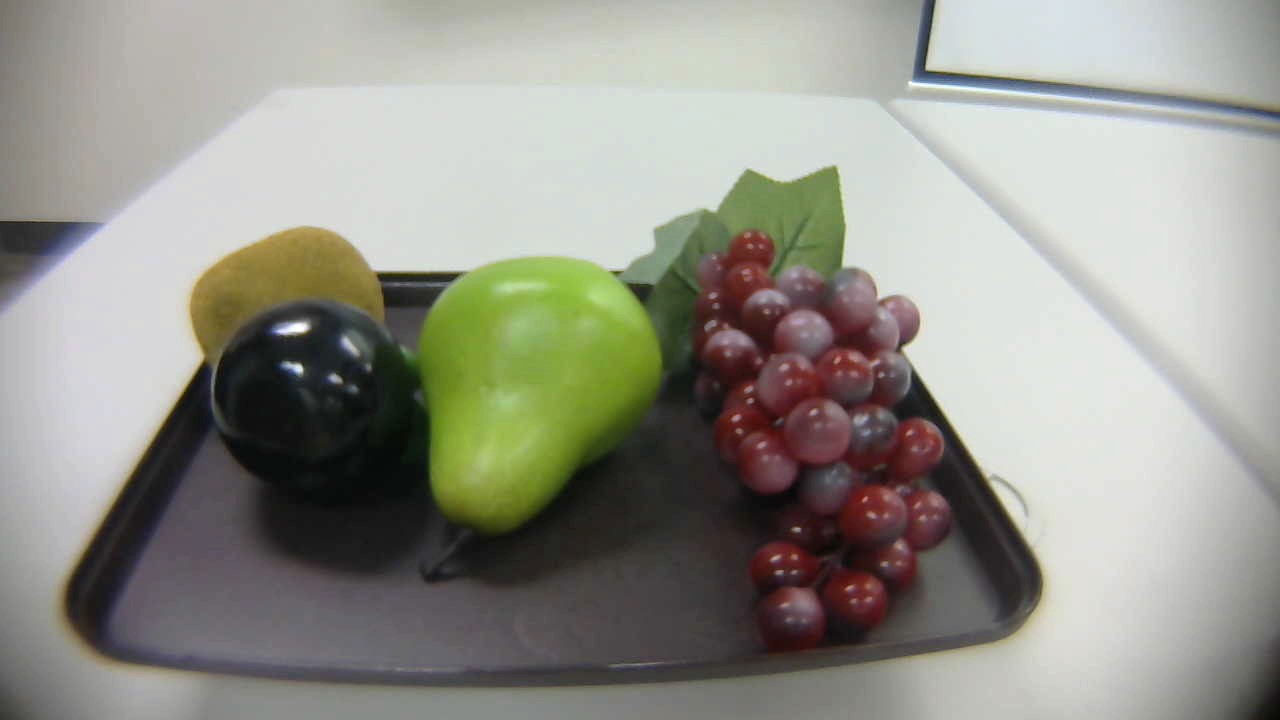grape: (612, 169, 968, 653)
green pear: (413, 258, 665, 571)
kiwi fruit: (175, 223, 395, 374)
mangosteen: (210, 294, 438, 494)
